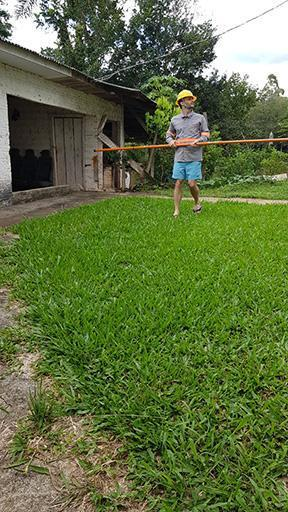helmet: (175, 89, 196, 112)
